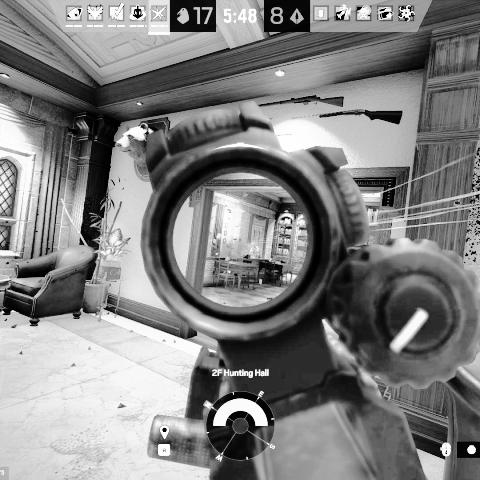Character: (248, 241, 262, 258)
Head: (250, 242, 256, 248)
